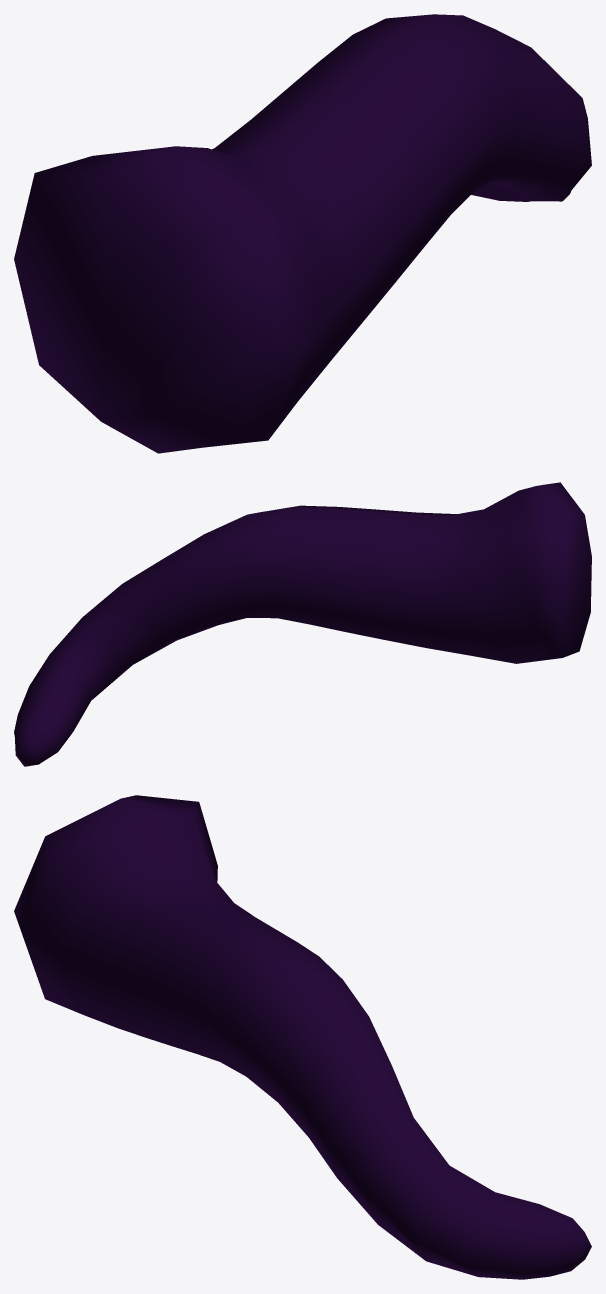
3 views of the same model, one above another, from view 1: azimuth 30°, elevation 25°; view 2: azimuth 150°, elevation 25°; view 3: azimuth 270°, elevation 25° (orthographic). The views are drawn at different scales.
Parts seen in each view (by area): view 1: Cube.008; view 2: Cube.008; view 3: Cube.008.
Part boxes in pixels (x1=…): Cube.008: x1=14, y1=14, x2=591, y2=453; Cube.008: x1=14, y1=482, x2=591, y2=766; Cube.008: x1=14, y1=795, x2=591, y2=1279.
Bounding box in the file's own units: 153 × 79.26 × 149.
